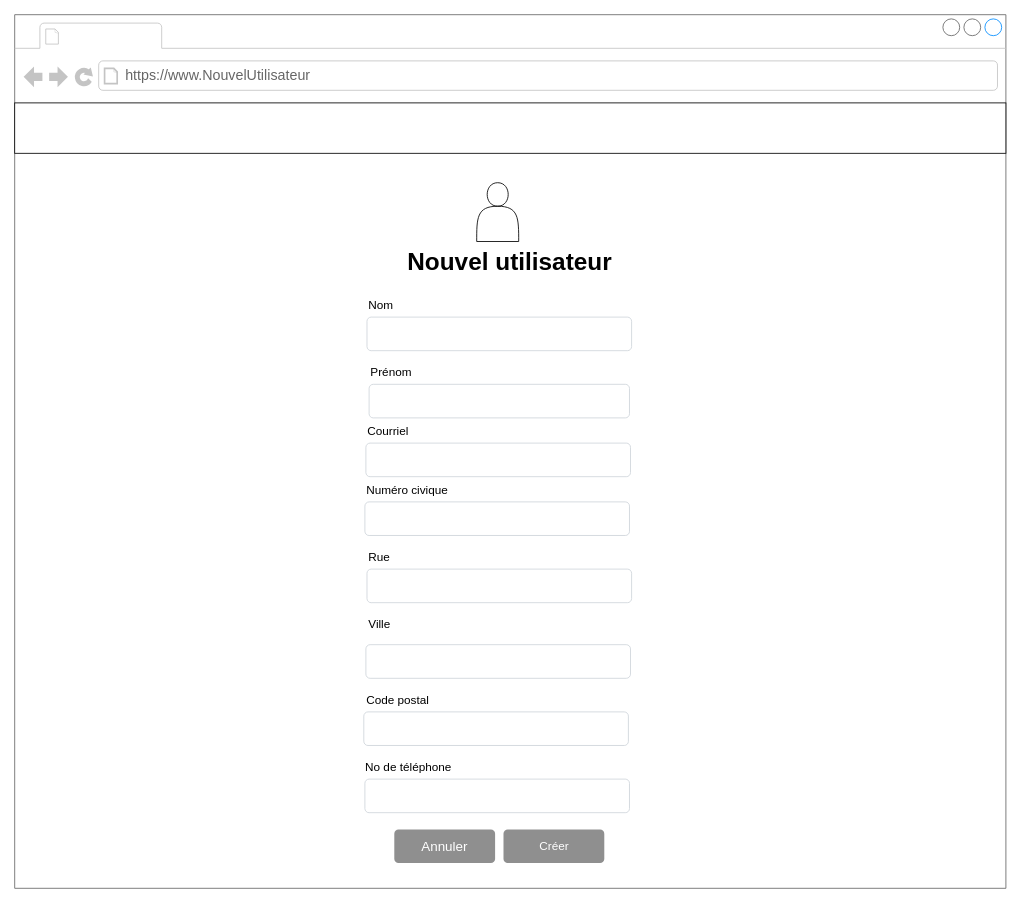
Some shapes in this 1021 by 903 pixel diagram are drawn without their labels. The centre of each missing label's shape, as x and y in pixels:
"Barre de navigation" belongs at point 510,127.
"Page 1" belongs at point 111,35.
